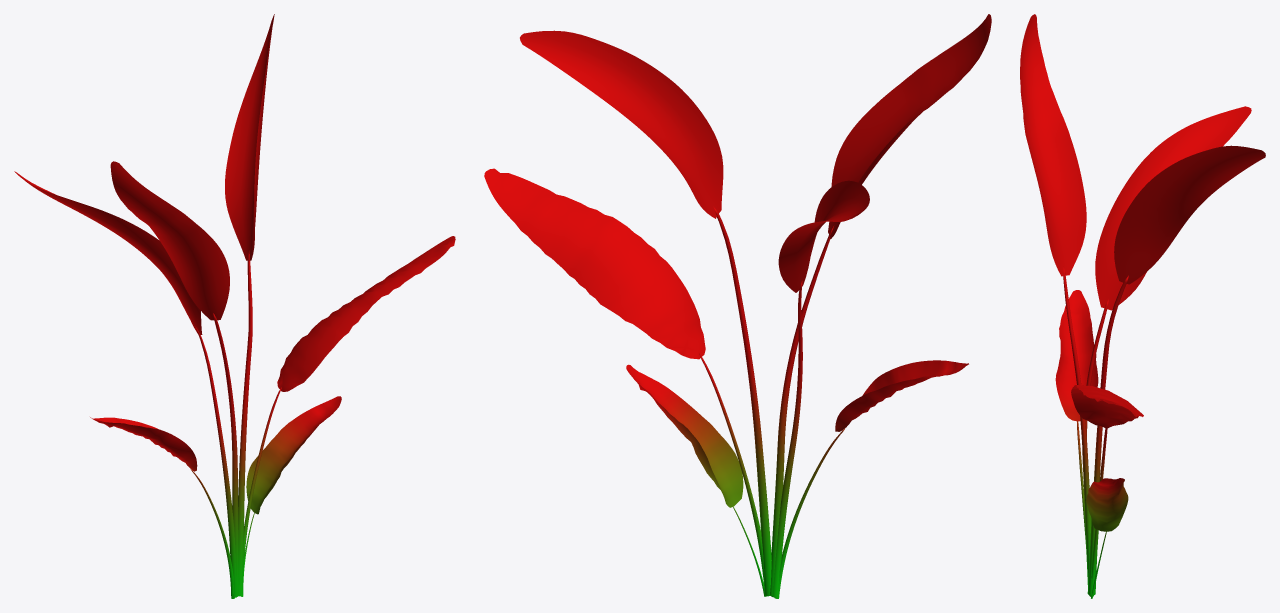
Rendered from Bird Of Paradise_LOD1_Var10_wfypeifha.fbx.
3 views of the same model, side by side, from view 1: azimuth 30°, elevation 25°; view 2: azimuth 150°, elevation 25°; view 3: azimuth 270°, elevation 25° (orthographic). The views are drawn at different scales.
Visible parts, largest first — view 1: _oyqo_Var10_LOD1; view 2: _oyqo_Var10_LOD1; view 3: _oyqo_Var10_LOD1.
Part boxes in pixels (<box>): _oyqo_Var10_LOD1: <box>14,14,455,598</box>; _oyqo_Var10_LOD1: <box>484,14,991,598</box>; _oyqo_Var10_LOD1: <box>1020,14,1265,598</box>.
Size of the model in its own units: 131 by 163 by 71.75.
